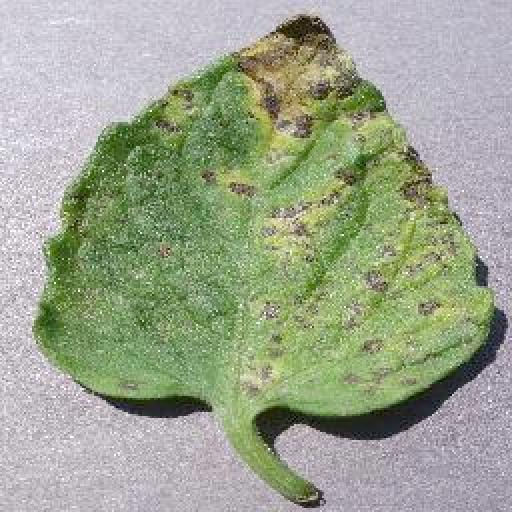disease_tomato: (30, 7, 499, 413)
